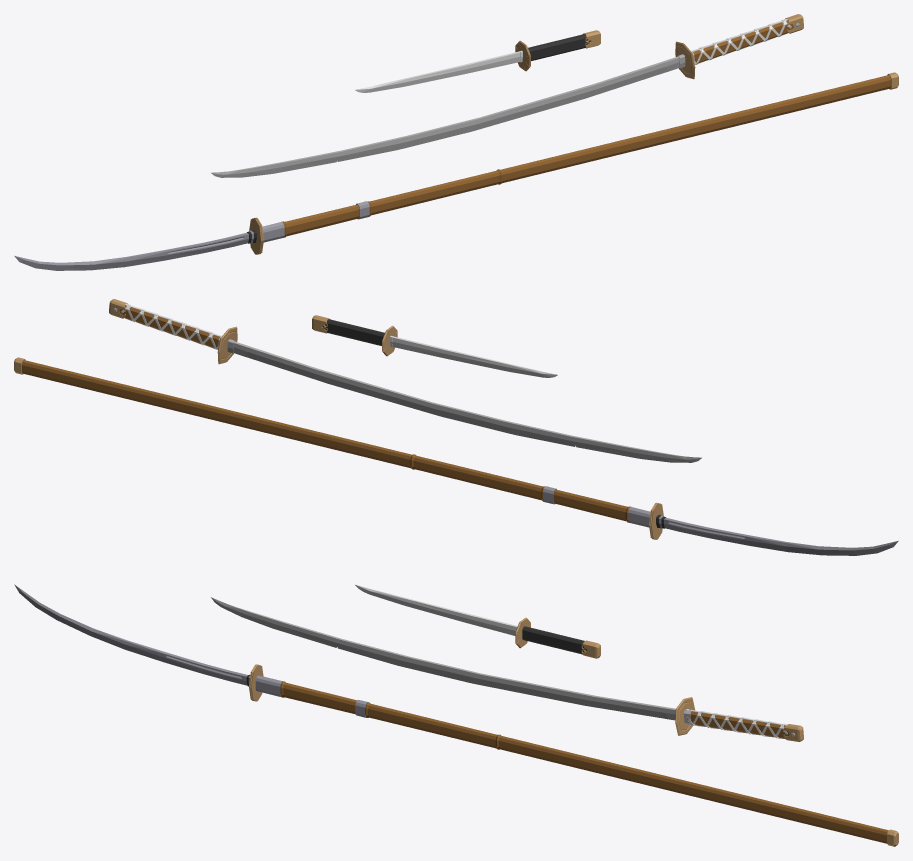
The model's file is blades.fbx.
3 views of the same model, one above another, from view 1: azimuth 30°, elevation 25°; view 2: azimuth 150°, elevation 25°; view 3: azimuth 330°, elevation 25° (orthographic).
Visible parts, largest first — view 1: naginata, tachi, tachi/wakazashi/tanto?; view 2: naginata, tachi, tachi/wakazashi/tanto?; view 3: naginata, tachi, tachi/wakazashi/tanto?.
Part boxes in pixels (bbox=[...]): naginata: bbox=[14, 72, 898, 270]; tachi: bbox=[211, 14, 803, 177]; tachi/wakazashi/tanto?: bbox=[355, 30, 600, 92]; naginata: bbox=[14, 357, 898, 555]; tachi: bbox=[109, 299, 701, 462]; tachi/wakazashi/tanto?: bbox=[312, 315, 557, 377]; naginata: bbox=[14, 584, 898, 846]; tachi: bbox=[211, 597, 803, 741]; tachi/wakazashi/tanto?: bbox=[355, 584, 600, 658].
Size of the model in its own units: 429 by 68.33 by 16.11.
